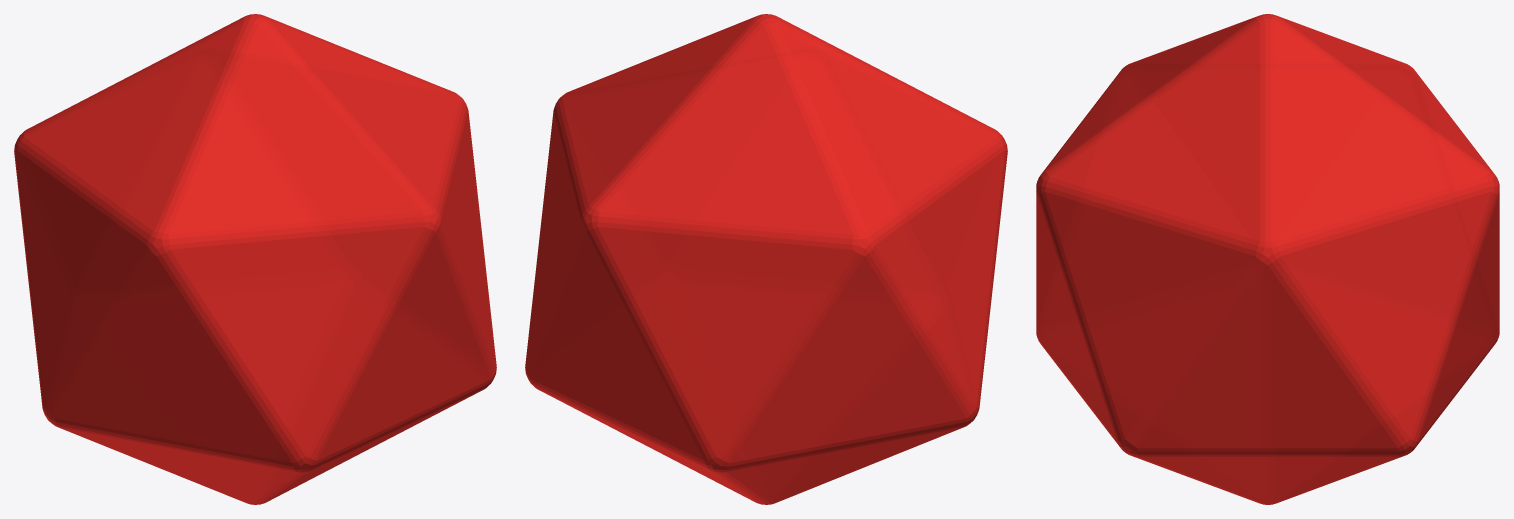
3 renders of one model, left to right at view 1: azimuth 30°, elevation 25°; view 2: azimuth 150°, elevation 25°; view 3: azimuth 270°, elevation 25°, orthographic.
Parts seen in each view (by area): view 1: Icosphere; view 2: Icosphere; view 3: Icosphere.
Part boxes in pixels (x1,y1,x2,y2): Icosphere: (14,14,496,504); Icosphere: (525,14,1007,504); Icosphere: (1036,14,1499,504).
Size of the model in its own units: 1.77 by 1.95 by 1.69.
